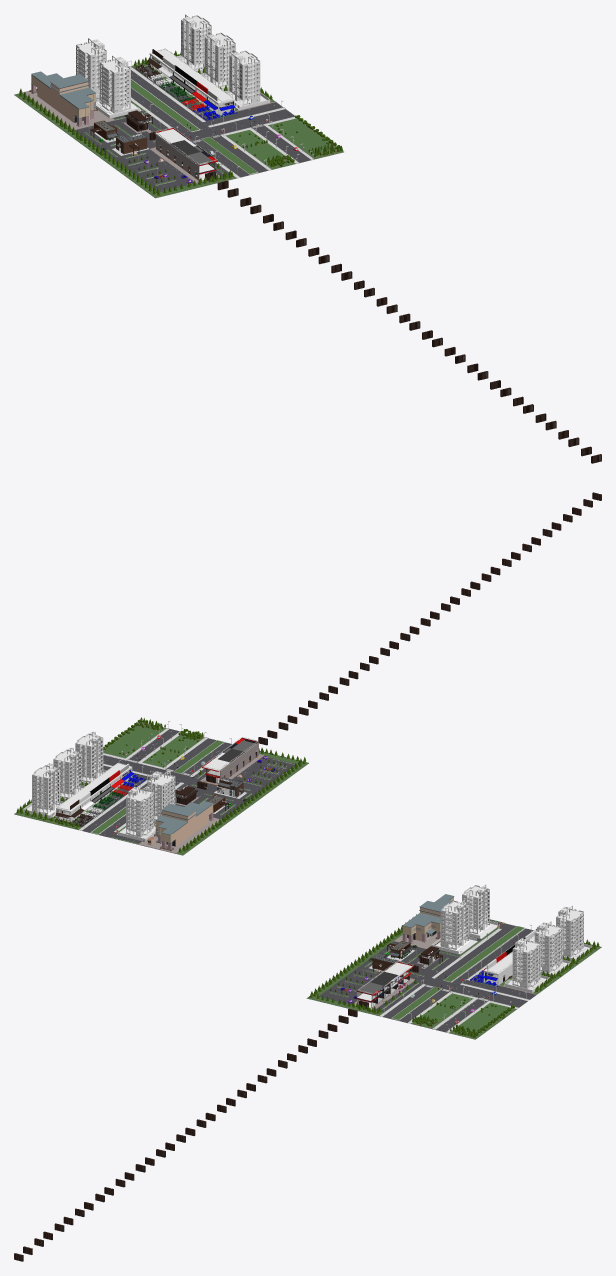
The model's file is signal_env.glb.
3 renders of one model, top to bottom at view 1: azimuth 30°, elevation 25°; view 2: azimuth 150°, elevation 25°; view 3: azimuth 330°, elevation 25°, orthographic. The views are drawn at different scales.
Parts seen in each view (by area): view 1: ENV_Ground_merged, AB17_OBJ_02, Cube.074, z.047, Plane.107, Cube, Cube.096, Cube.081, ENV_Roads_merged; view 2: ENV_Ground_merged, AB17_OBJ_02, Cube.074, z.047, Plane.107, Cube, Cube.096, Cube.081, ENV_Roads_merged; view 3: ENV_Ground_merged, AB17_OBJ_02, Cube.074, z.047, Plane.107, Cube.081, ENV_Roads_merged, Cube, Cube.096, AB17_OBJ_13, AB17_OBJ_12.
Boxes of the visible parts, left/top/right/bottom form: ENV_Ground_merged: left=14, top=54, right=343, bottom=198; AB17_OBJ_02: left=76, top=14, right=260, bottom=113; Cube.074: left=130, top=116, right=601, bottom=463; z.047: left=19, top=50, right=343, bottom=196; Plane.107: left=150, top=48, right=233, bottom=183; Cube: left=31, top=71, right=95, bottom=122; Cube.096: left=147, top=49, right=235, bottom=114; Cube.081: left=91, top=65, right=313, bottom=177; ENV_Roads_merged: left=84, top=75, right=263, bottom=185; ENV_Ground_merged: left=14, top=722, right=308, bottom=855; AB17_OBJ_02: left=32, top=731, right=175, bottom=837; Cube.074: left=177, top=492, right=601, bottom=804; z.047: left=16, top=717, right=305, bottom=853; Plane.107: left=57, top=737, right=264, bottom=810; Cube: left=155, top=801, right=213, bottom=846; Cube.096: left=55, top=763, right=134, bottom=822; Cube.081: left=54, top=728, right=246, bottom=832; ENV_Roads_merged: left=90, top=746, right=294, bottom=844; ENV_Ground_merged: left=306, top=920, right=601, bottom=1039; AB17_OBJ_02: left=440, top=884, right=583, bottom=988; Cube.074: left=14, top=951, right=438, bottom=1261; z.047: left=309, top=914, right=599, bottom=1038; Plane.107: left=354, top=935, right=534, bottom=1010; Cube.081: left=369, top=928, right=534, bottom=1032; ENV_Roads_merged: left=329, top=919, right=524, bottom=1024; Cube: left=402, top=894, right=454, bottom=941; Cube.096: left=482, top=936, right=534, bottom=985; AB17_OBJ_13: left=435, top=923, right=589, bottom=992; AB17_OBJ_12: left=431, top=921, right=592, bottom=992.
Size of the model in its own units: 216 by 51.04 by 1035.
169 materials, 11 textured.
